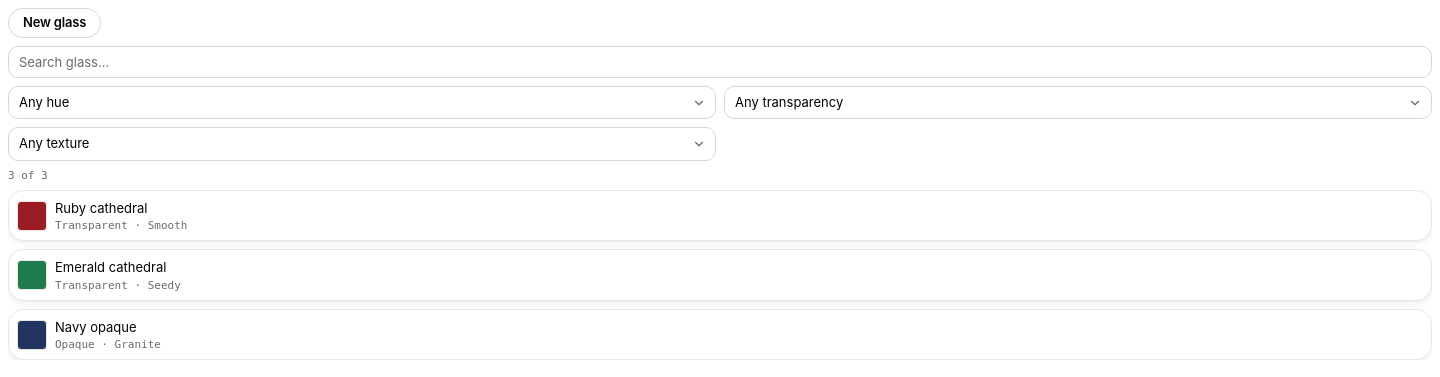
Test: GlassPalette (F-022) › filters by transparency facet (FR-3)
// The transparency select is the second combobox (after hue).
Select "Opaque" in the 2nd dropdown at (1078, 103), box [724,86,1432,119]
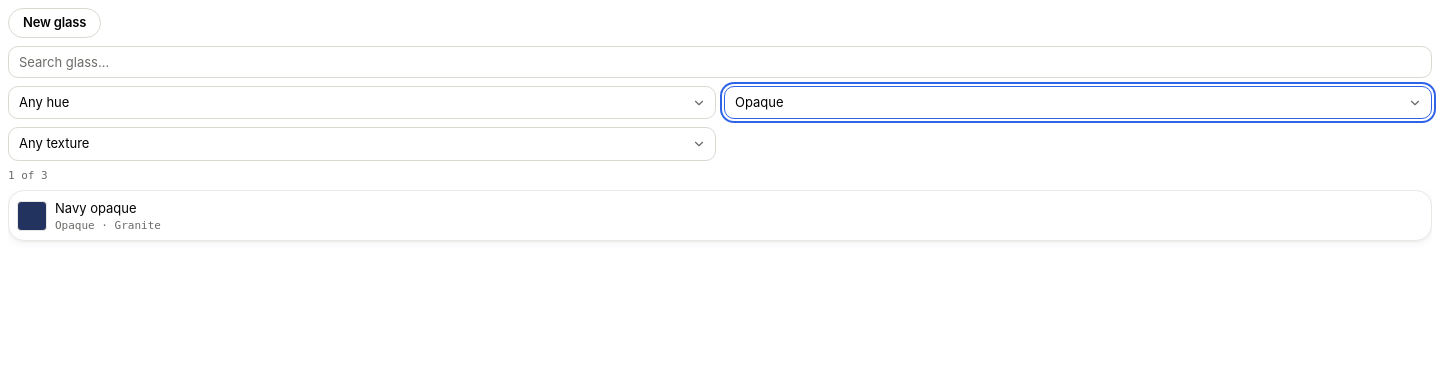
Check: the text "Navy opaque" is shown, box [55,200,137,216]
Check: the text with test id "glass-count" reads "1 of 3", box [8,169,48,182]
